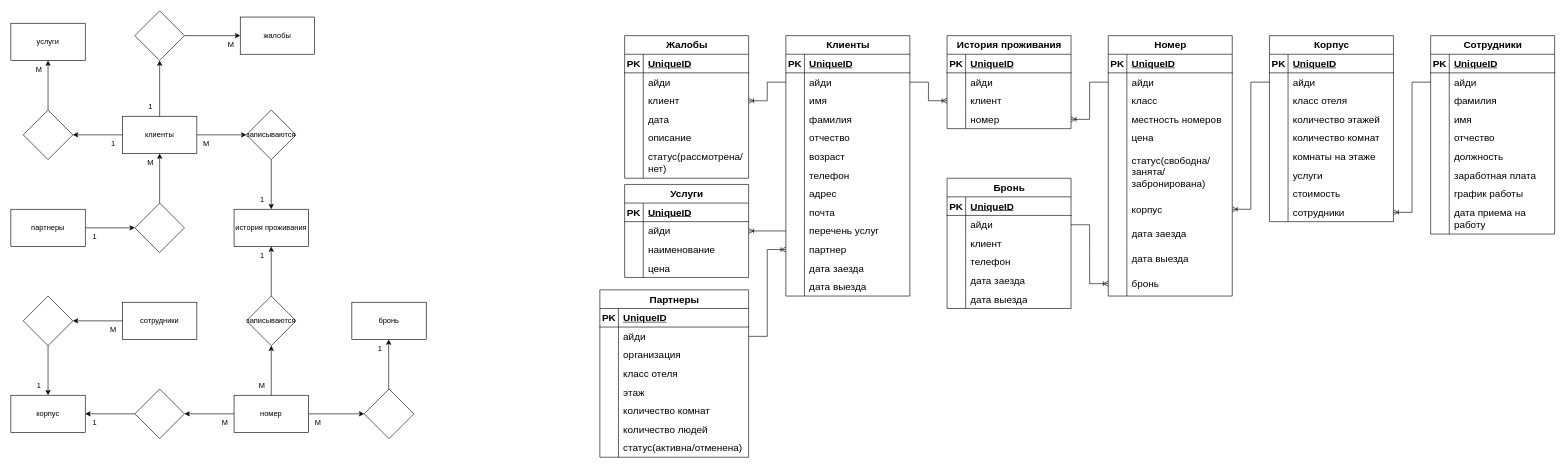
Some shapes in this 1566 by 468 pixel diagram are drawn without their labels. The shapes that lost their labels are listed below. From the top down, each one's box as (x1, y1, x2, y2) in pixels, then its label:
(134, 10, 184, 60): пишут
(23, 109, 73, 160): пользуются
(134, 202, 184, 253): отправляют
(23, 295, 73, 346): работают
(134, 388, 184, 439): находятся
(364, 388, 414, 439): резервируется
